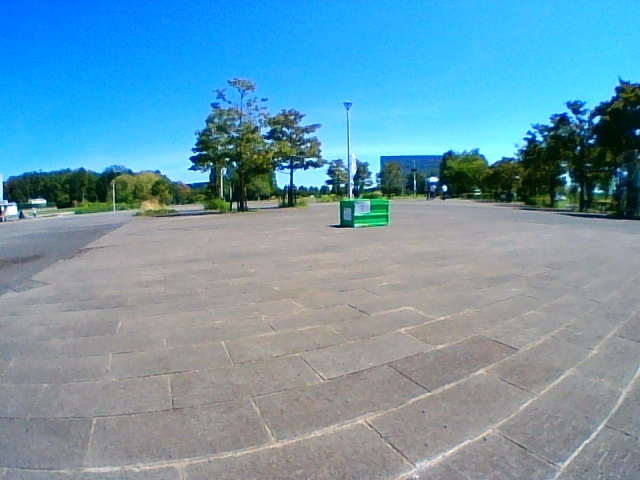green_box: (340, 200, 389, 227)
tag: (354, 202, 370, 214)
